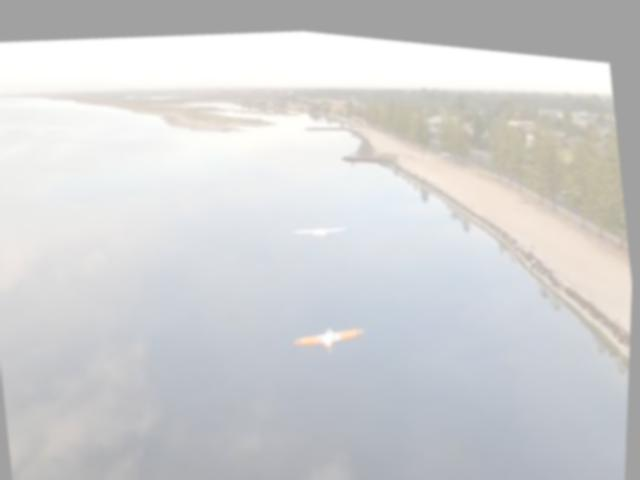uav: (295, 308, 372, 352), (295, 210, 351, 239)
